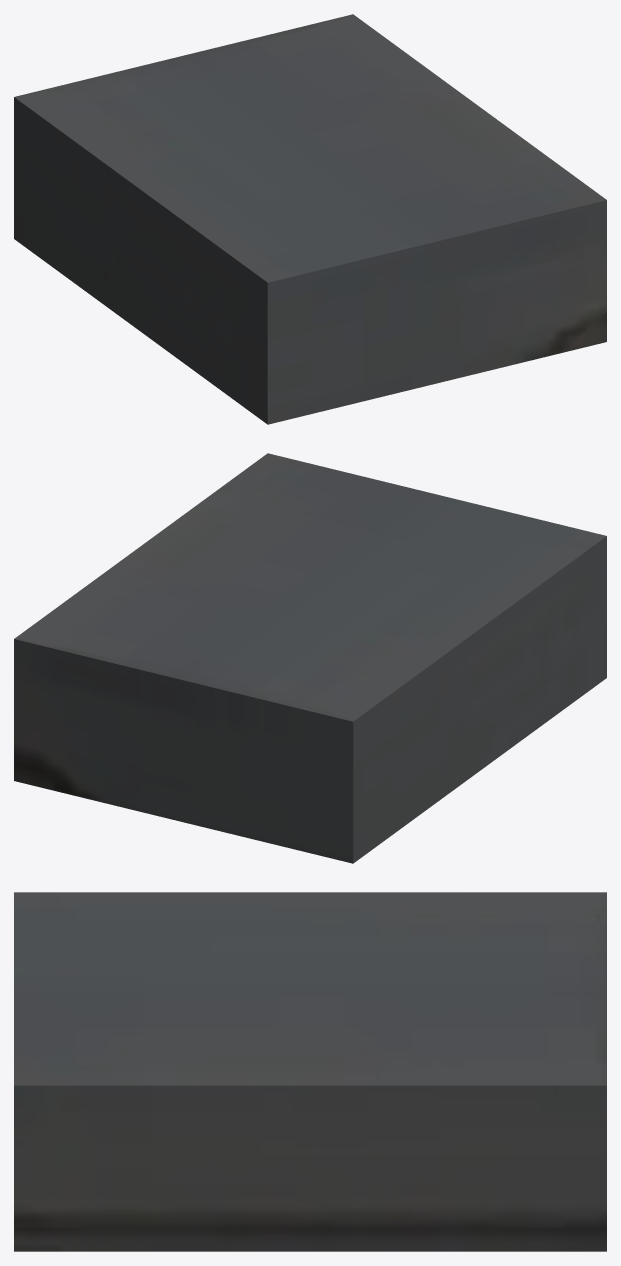
The model's file is housing__frame_hinge_leaf_2.glb.
3 renders of one model, top to bottom at view 1: azimuth 30°, elevation 25°; view 2: azimuth 150°, elevation 25°; view 3: azimuth 270°, elevation 25°, orthographic. The views are drawn at different scales.
Parts seen in each view (by area): view 1: geometry_0; view 2: geometry_0; view 3: geometry_0.
Part boxes in pixels (box(x1,y1,x2,y2)): geometry_0: box(14, 14, 606, 424); geometry_0: box(14, 453, 606, 863); geometry_0: box(14, 892, 606, 1251).
Size of the model in its own units: 0.05 by 0.02 by 0.0648.
1 material, 1 textured.
